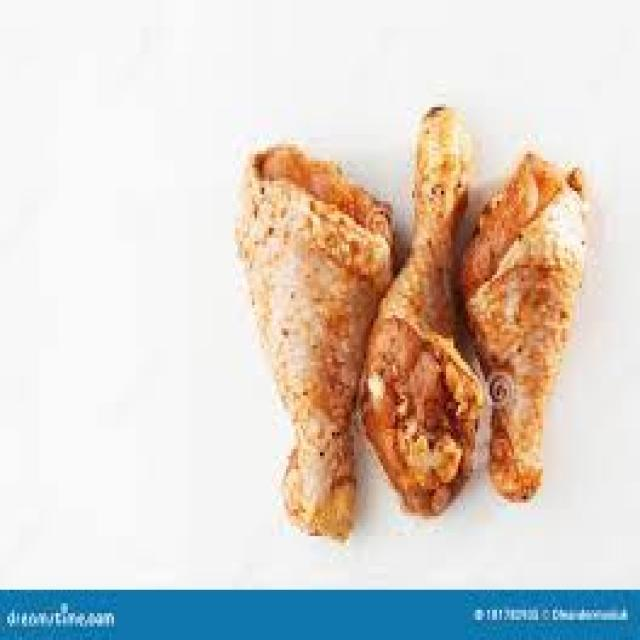leg: (233, 140, 381, 544), (367, 98, 481, 516), (462, 144, 585, 502)
